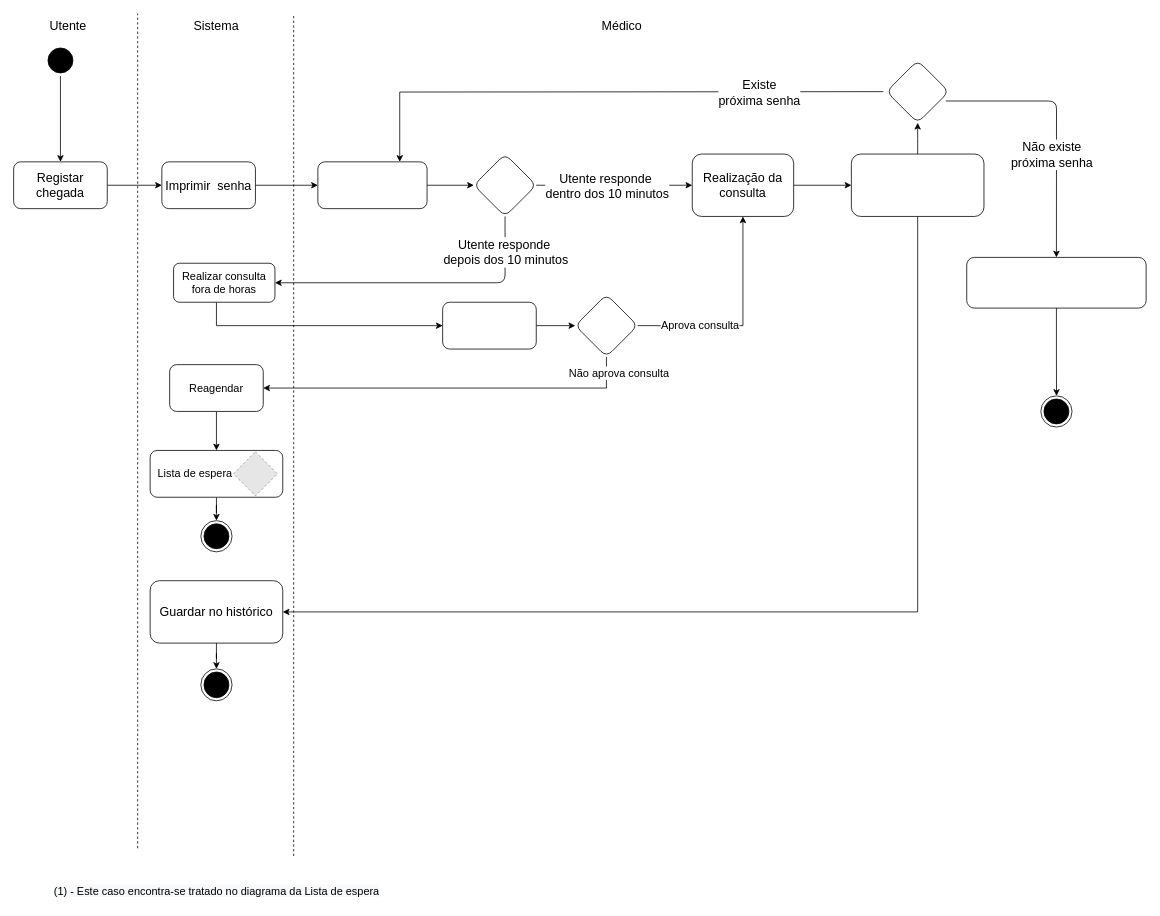
The diagram is 1160 pixels wide and 916 high, and some of its shapes have lost their labels. Grey dashed boxes stand in for pictures. Each missing label, with the centre of its shape:
Chamar Utente: (372,185)
Fecho de consulta: (917,184)
Finalizar período de consultas (manha/tarde/noite): (1056,282)
Pedido de aprovação: (489,325)
